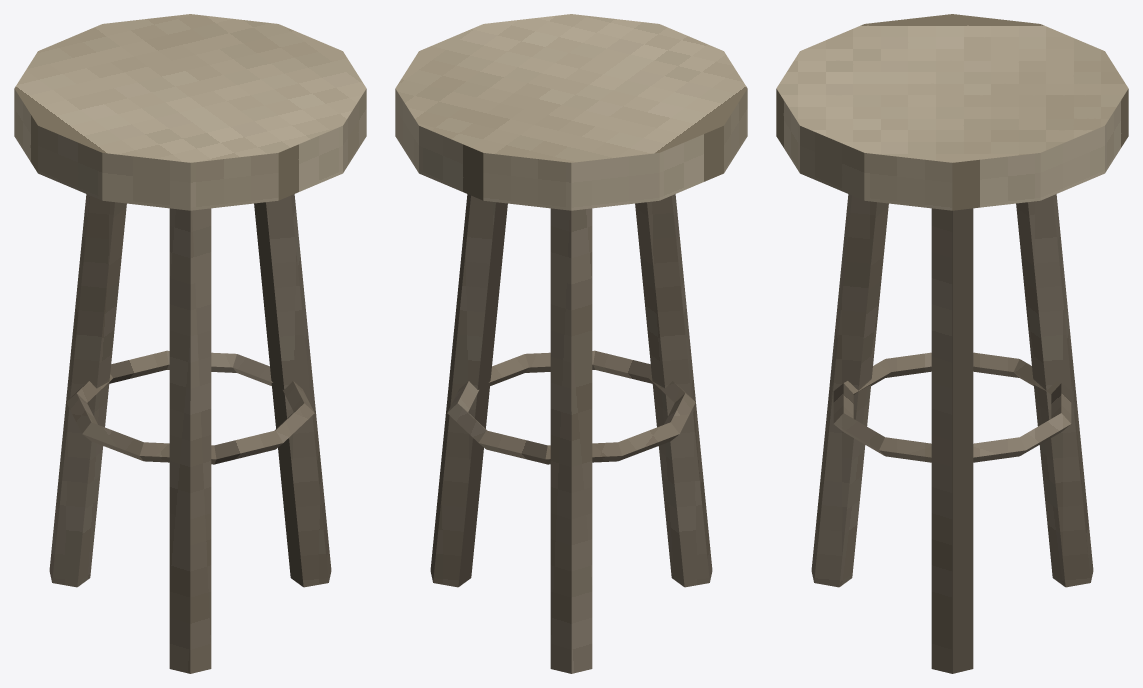
The model's file is stool.obj.
3 renders of one model, left to right at view 1: azimuth 30°, elevation 25°; view 2: azimuth 150°, elevation 25°; view 3: azimuth 270°, elevation 25°, orthographic.
Parts seen in each view (by area): view 1: stool; view 2: stool; view 3: stool.
Boxes of the visible parts, x1,y1,x2,y2 form: stool: [14, 14, 366, 673]; stool: [395, 14, 747, 673]; stool: [776, 14, 1128, 673].
Bounding box in the file's own units: 0.4 × 0.652 × 0.4.
